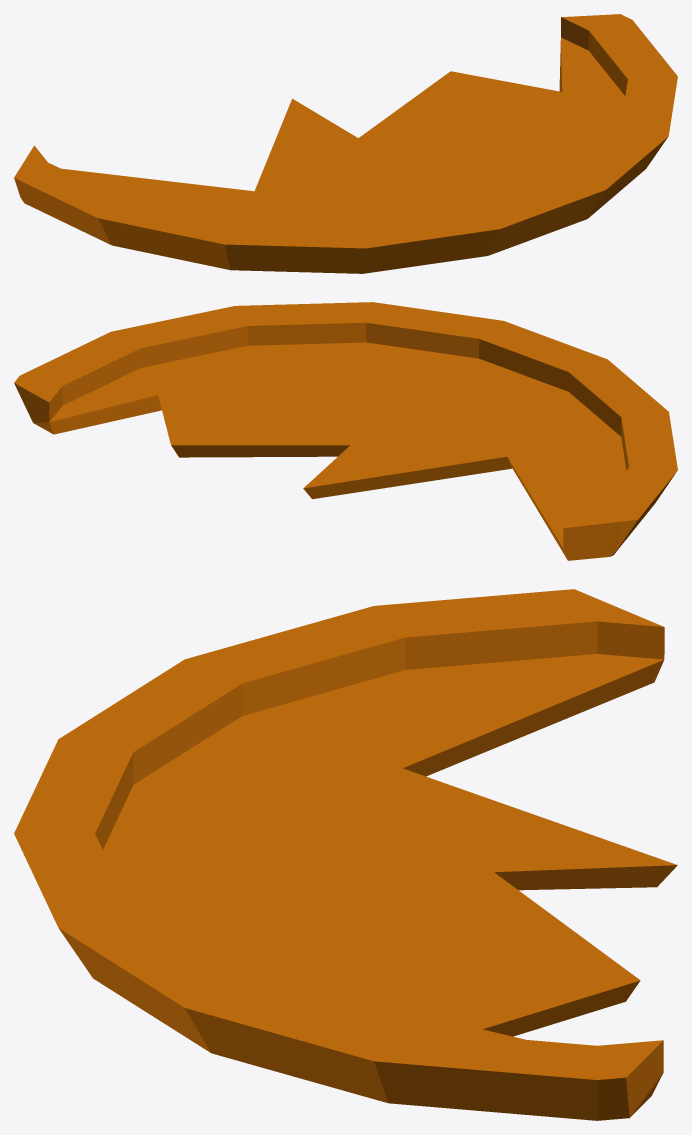
File: LudumDarePlateBrokenS1.fbx
The picture shows the model from 3 angles, top to bottom: view 1: azimuth 30°, elevation 25°; view 2: azimuth 150°, elevation 25°; view 3: azimuth 270°, elevation 25°; orthographic projection. The views are drawn at different scales.
Parts seen in each view (by area): view 1: Plate; view 2: Plate; view 3: Plate.
Part boxes in pixels (x1,y1,x2,y2): Plate: (14,14,677,273); Plate: (14,302,677,560); Plate: (14,589,677,1120).
Size of the model in its own units: 34.62 by 1.86 by 19.78.
